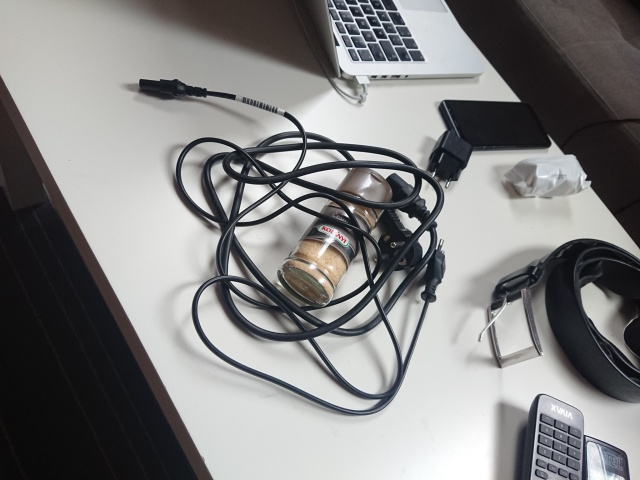Kotanyi Garlic Granules 70g: (274, 163, 396, 309)
